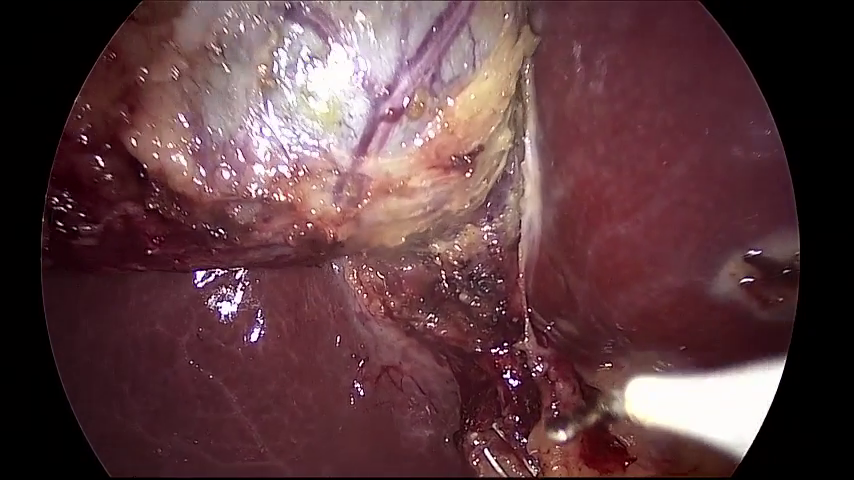lhook: (550, 362, 785, 456)
